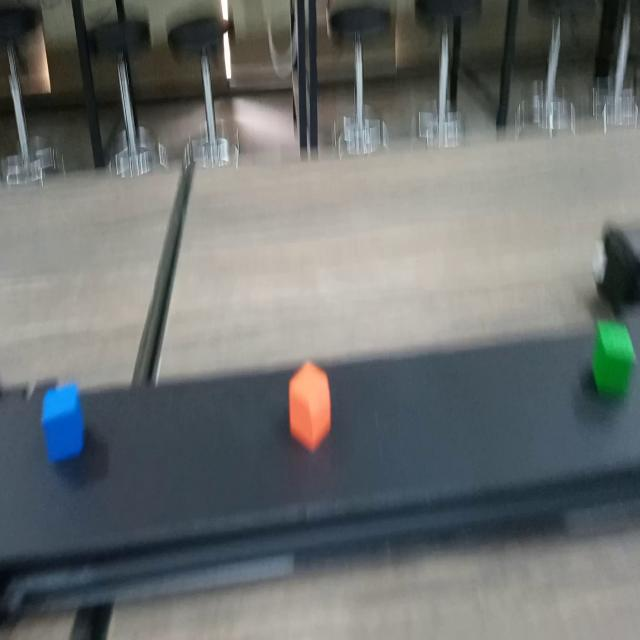cube: (37, 373, 93, 466), (588, 311, 640, 403)
